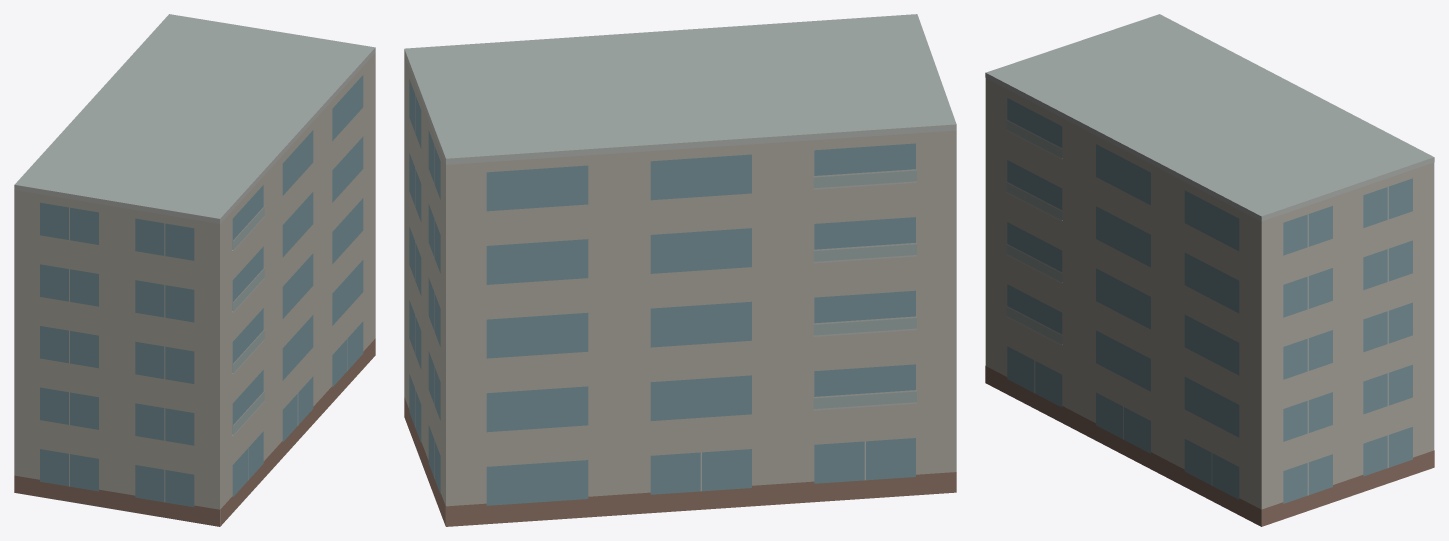
Rendered from survey-upis-32746028.glb.
3 renders of one model, left to right at view 1: azimuth 30°, elevation 25°; view 2: azimuth 150°, elevation 25°; view 3: azimuth 270°, elevation 25°, orthographic. The views are drawn at different scales.
Parts seen in each view (by area): view 1: survey-upis-32746028.tmp; view 2: survey-upis-32746028.tmp; view 3: survey-upis-32746028.tmp.
Boxes of the visible parts, x1,y1,x2,y2 form: survey-upis-32746028.tmp: (14,14,375,526); survey-upis-32746028.tmp: (404,14,956,526); survey-upis-32746028.tmp: (985,14,1434,526).
Size of the model in its own units: 20.5 by 14.65 by 19.21.
